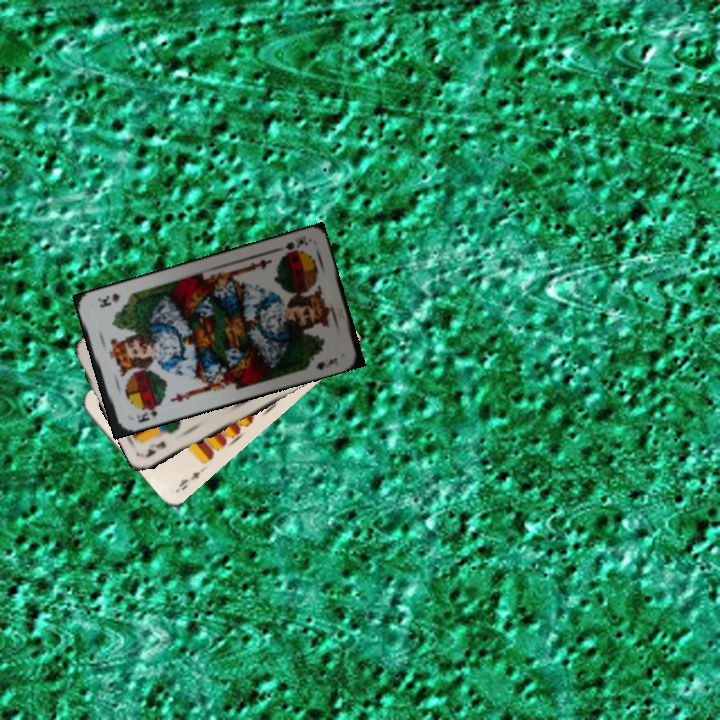E9: (172, 464, 207, 494)
EK: (142, 437, 169, 460)
SK: (277, 235, 310, 259), (133, 401, 163, 425)
